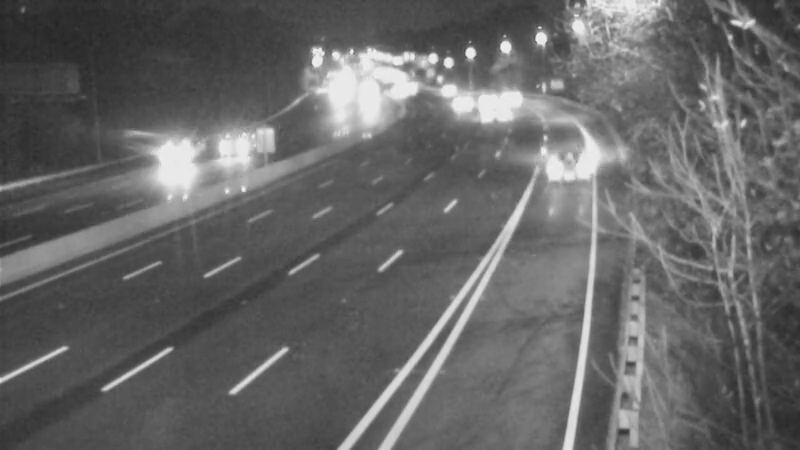vehicle: (527, 114, 607, 194), (127, 124, 207, 204), (194, 110, 274, 190), (484, 67, 534, 117), (460, 73, 510, 123), (430, 75, 480, 125), (469, 94, 519, 144)
